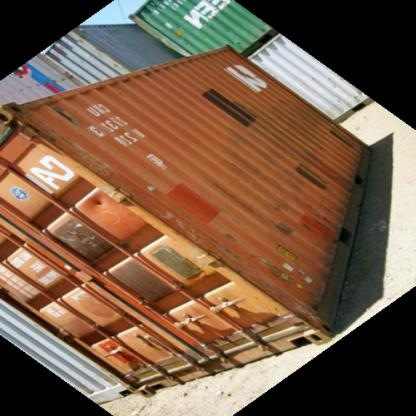Damage: (25, 116, 122, 184), (155, 202, 246, 268), (241, 268, 335, 322), (262, 199, 305, 246)
